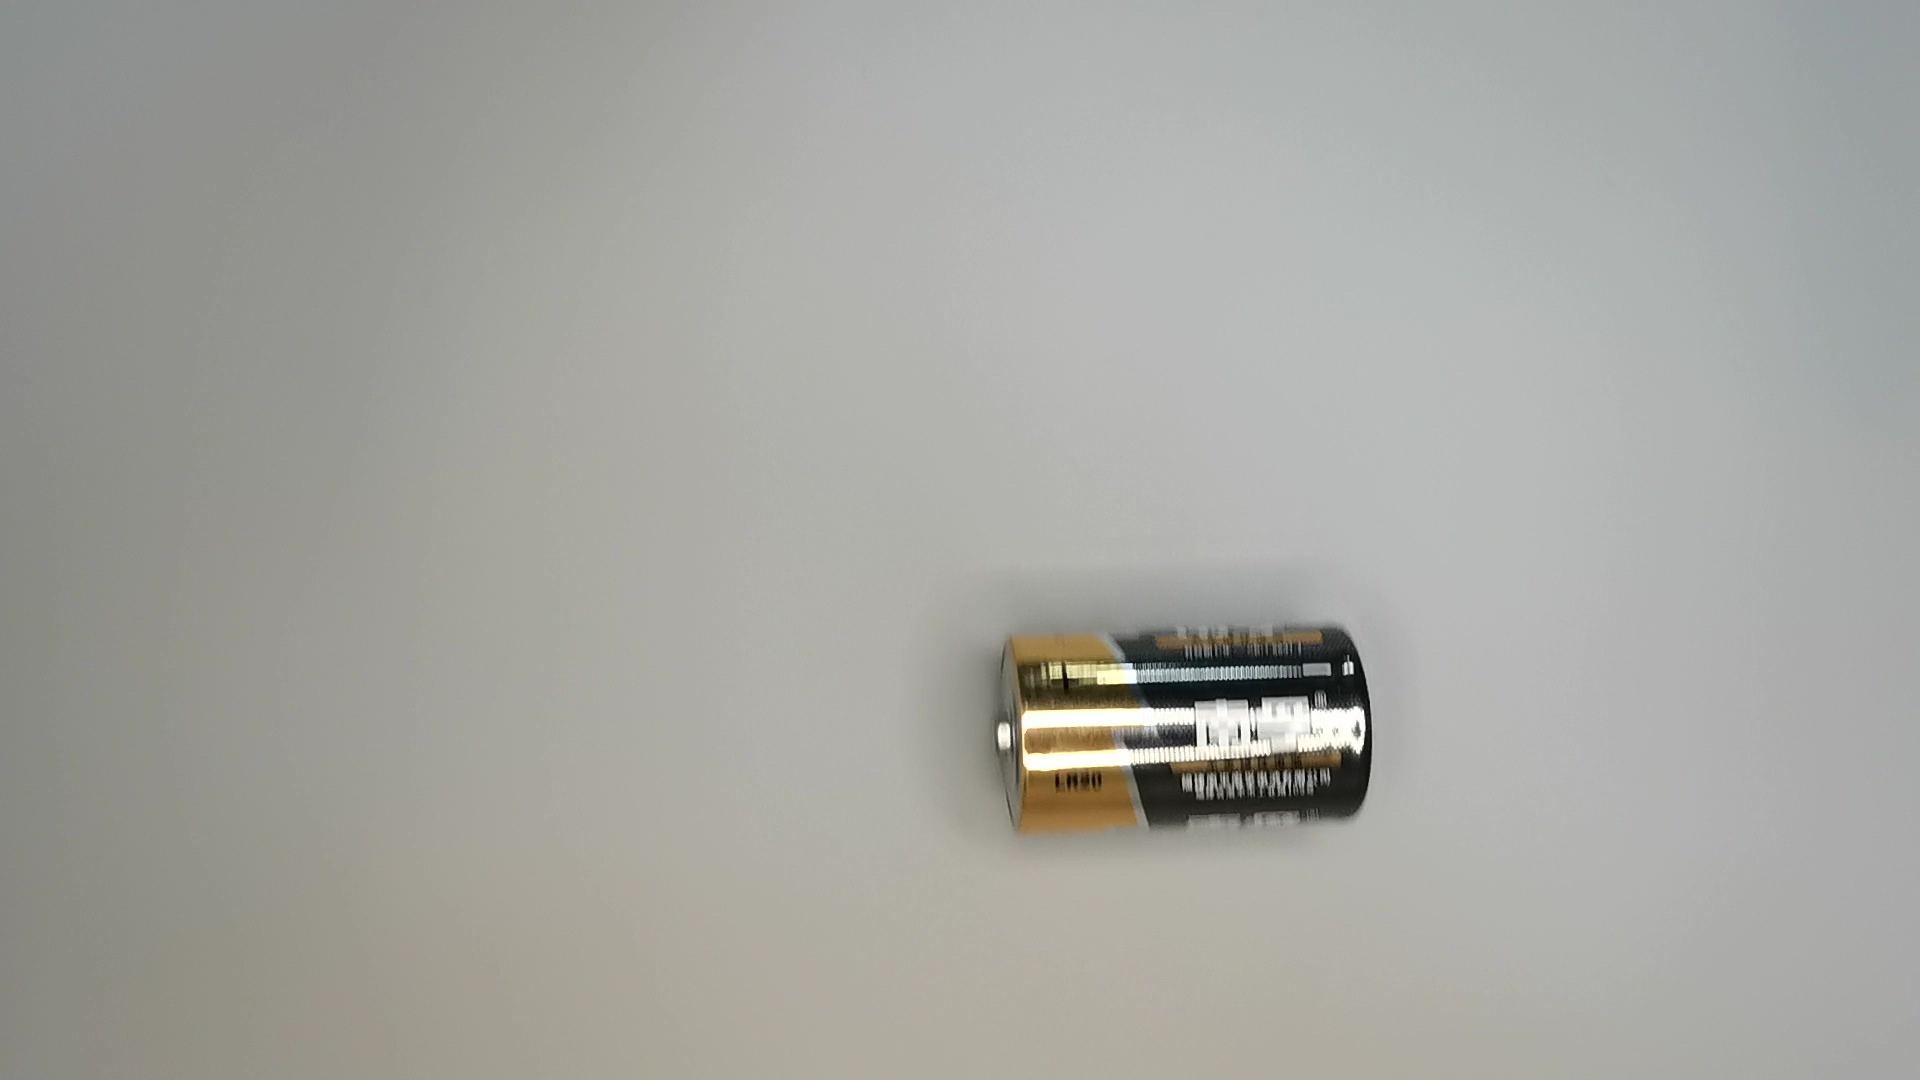battery: (984, 622, 1381, 849)
